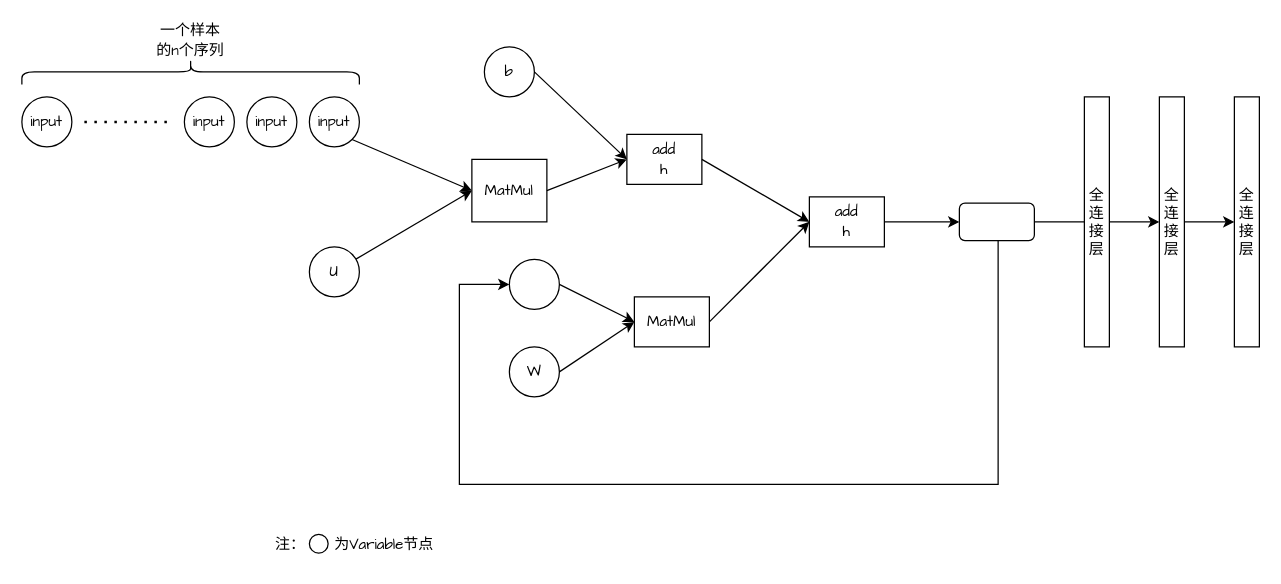
The diagram is 1281 pixels wide and 584 high, and some of its shapes have lost their labels. The centre of each missing label's shape, as x and y in pixels:
Last step: the point at 533,283
ReLU: the point at 996,221
